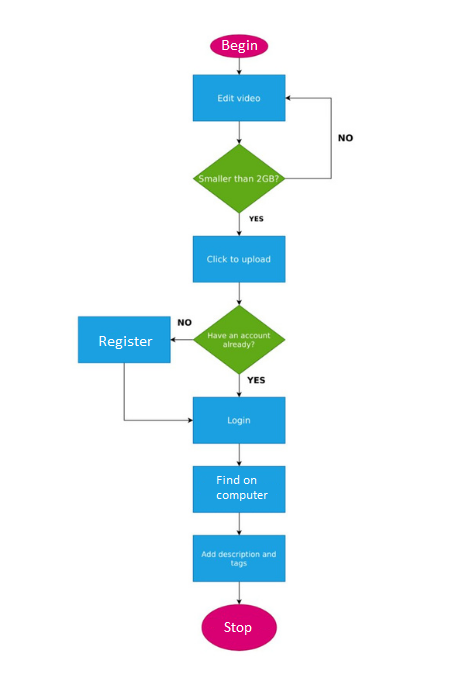arrow: (283, 93, 336, 183), (120, 360, 193, 424), (233, 280, 245, 310), (234, 118, 245, 148), (234, 511, 246, 537), (234, 440, 245, 468), (234, 577, 245, 605), (169, 335, 202, 344), (234, 209, 244, 238), (236, 369, 245, 398), (233, 54, 244, 75)
decision: (189, 143, 290, 214), (192, 304, 287, 377)
process: (190, 70, 289, 123), (190, 394, 289, 447), (74, 313, 173, 365), (190, 463, 289, 515), (190, 532, 289, 584), (190, 233, 287, 285)
terminator: (200, 600, 280, 653), (206, 32, 271, 60)
text: (214, 473, 269, 502), (199, 549, 279, 568), (203, 330, 273, 351), (96, 333, 155, 352), (204, 252, 273, 267), (196, 173, 280, 185), (218, 35, 259, 55), (221, 619, 255, 638), (216, 91, 263, 104), (224, 414, 255, 428), (244, 373, 269, 384), (245, 211, 265, 224), (337, 131, 356, 144), (174, 316, 193, 328)
